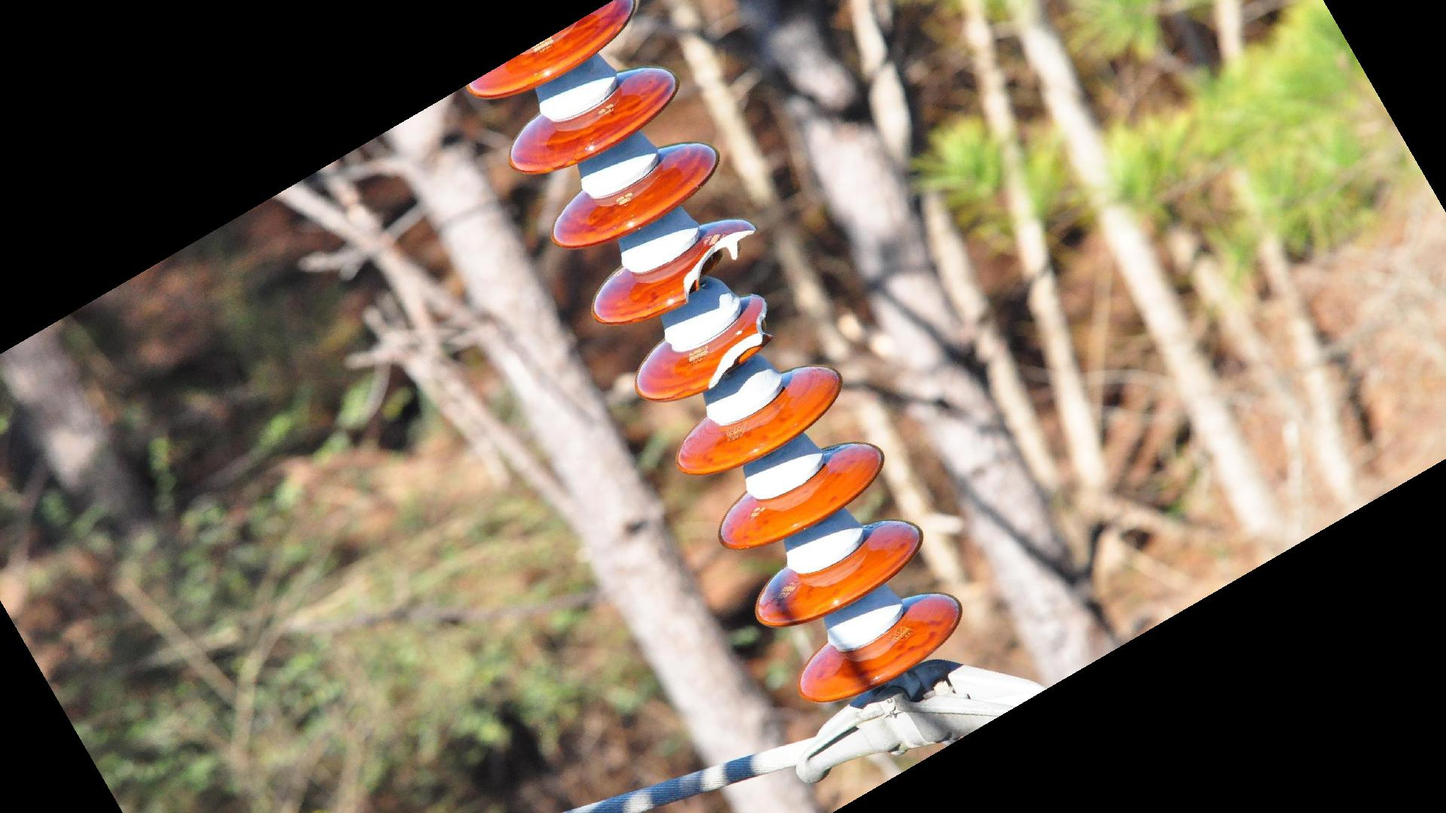insulator: (462, 1, 969, 708)
insulator_breakage: (700, 291, 776, 393), (673, 220, 761, 306)
